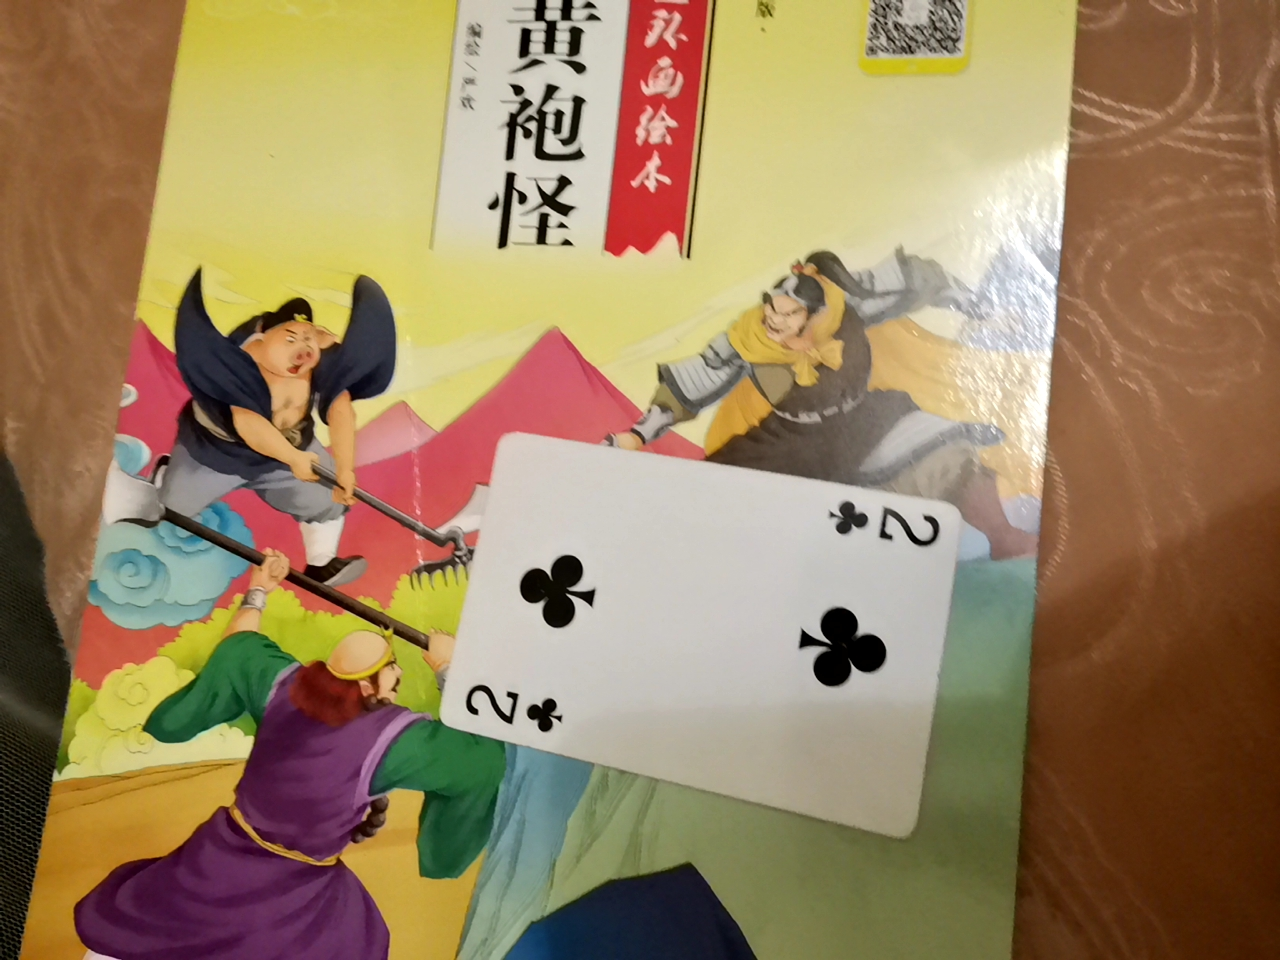mh 2: (459, 427, 962, 788)
